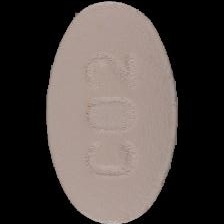0615-7992: (0, 0, 224, 224)
